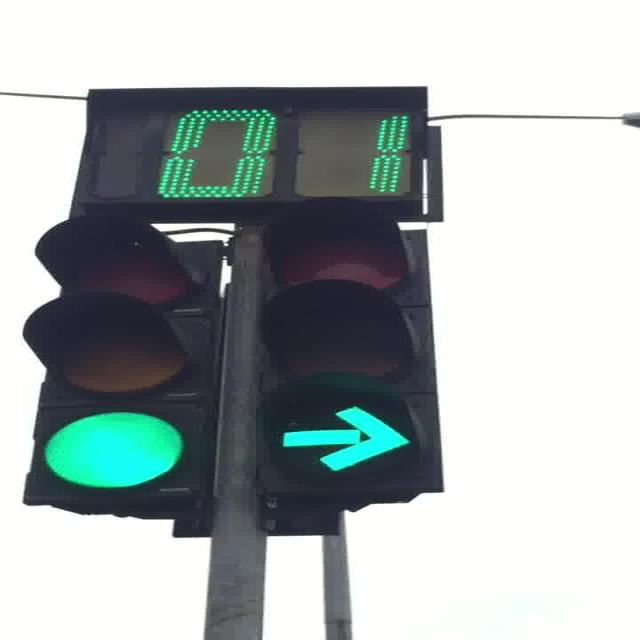traffic light: (24, 85, 449, 603), (22, 216, 227, 533), (253, 217, 446, 537)
